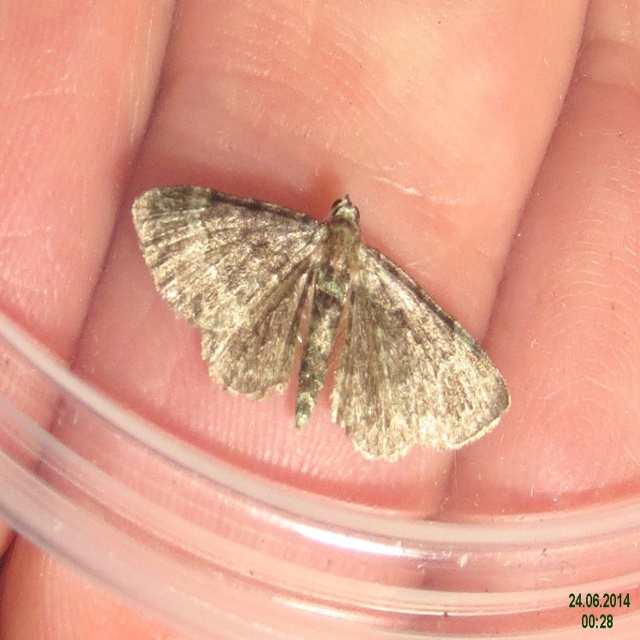Butterfly: (137, 173, 514, 442)
